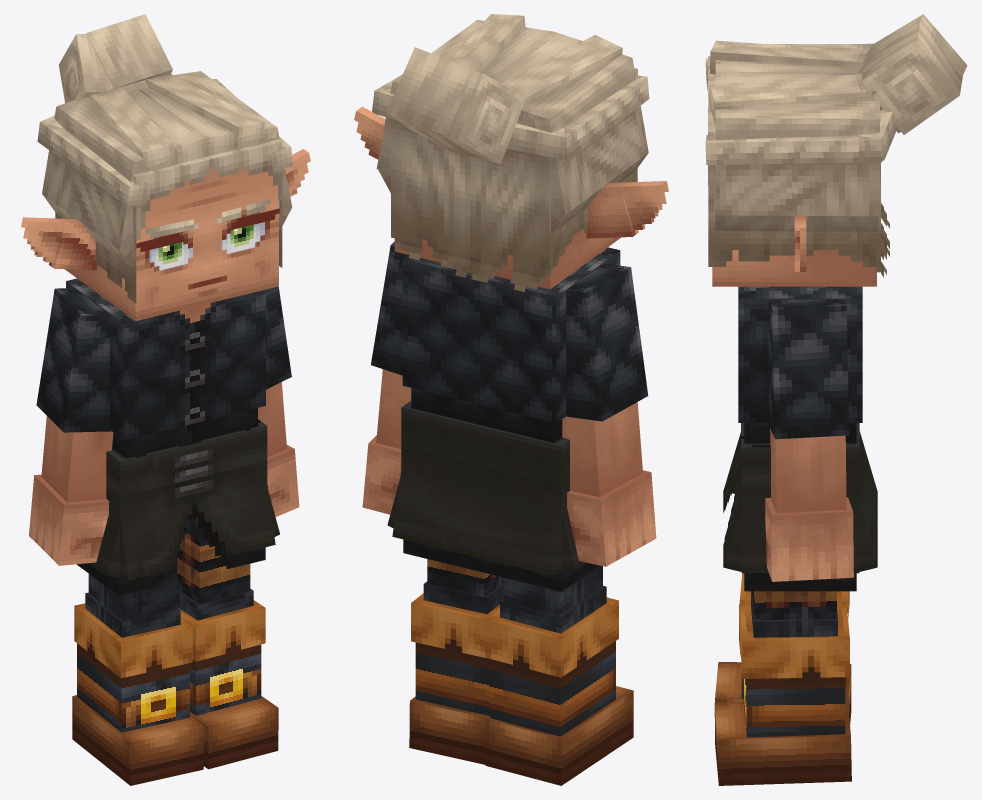
3 renders of one model, left to right at view 1: azimuth 30°, elevation 25°; view 2: azimuth 150°, elevation 25°; view 3: azimuth 270°, elevation 25°, orthographic. The views are drawn at different scales.
Visible parts, largest first — view 1: ChestPart.mesh, Face.mesh, L-Boot3.mesh (×2), BellyCostume2.mesh, R-ArmCostume.mesh, Front_Cloth_1.mesh, R-Boot.mesh, TopBraid.mesh (×2), SIde_R--C1.mesh, HairBase.mesh, R-Hand.mesh, R-Boot2.mesh (+25 smaller); view 2: ChestPart.mesh, HairBase.mesh, L-Boot3.mesh (×2), Back_Cloth_1.mesh, BellyCostume2.mesh, R-ArmCostume.mesh, R-Boot.mesh, SIde_R--C1.mesh, R-Hand.mesh, R-Boot2.mesh, R-Forearm.mesh, TopBraid.mesh (×2) (+25 smaller); view 3: SIde_L--C1.mesh, L-ArmCostume.mesh, L-Boot.mesh, ChestPart.mesh, TopBraid.mesh (×2), Bun2--C1.mesh, L-Hand.mesh, L-Boot3.mesh, L-Forearm.mesh, HairBase.mesh, L-Boot2.mesh, SideBraid--C1.mesh (+18 smaller).
Boxes of the visible parts, <box> form: ChestPart.mesh: <box>66,278,265,440</box>; Face.mesh: <box>135,166,278,320</box>; L-Boot3.mesh (×2): <box>77,641,261,732</box>; BellyCostume2.mesh: <box>106,419,267,521</box>; R-ArmCostume.mesh: <box>36,288,111,432</box>; Front_Cloth_1.mesh: <box>120,482,275,580</box>; R-Boot.mesh: <box>72,695,203,785</box>; TopBraid.mesh (×2): <box>89,74,264,171</box>; SIde_R--C1.mesh: <box>42,107,135,249</box>; HairBase.mesh: <box>55,139,282,303</box>; R-Hand.mesh: <box>29,474,108,565</box>; R-Boot2.mesh: <box>74,603,192,678</box>; ChestPart.mesh: <box>402,247,620,423</box>; HairBase.mesh: <box>391,68,637,279</box>; L-Boot3.mesh (×2): <box>415,639,615,736</box>; Back_Cloth_1.mesh: <box>392,469,560,575</box>; BellyCostume2.mesh: <box>401,401,569,511</box>; R-ArmCostume.mesh: <box>566,263,648,421</box>; R-Boot.mesh: <box>485,686,633,785</box>; SIde_R--C1.mesh: <box>534,58,648,214</box>; R-Hand.mesh: <box>567,470,656,566</box>; R-Boot2.mesh: <box>490,597,618,677</box>; R-Forearm.mesh: <box>562,402,642,497</box>; TopBraid.mesh (×2): <box>450,14,622,102</box>; SIde_L--C1.mesh: <box>715,115,880,216</box>; L-ArmCostume.mesh: <box>768,299,849,439</box>; L-Boot.mesh: <box>714,698,851,785</box>; ChestPart.mesh: <box>738,286,862,422</box>; TopBraid.mesh (×2): <box>709,40,882,122</box>; Bun2--C1.mesh: <box>861,19,963,134</box>; L-Hand.mesh: <box>765,497,853,581</box>; L-Boot3.mesh: <box>743,666,845,737</box>; L-Forearm.mesh: <box>770,428,846,513</box>; HairBase.mesh: <box>708,56,880,272</box>; L-Boot2.mesh: <box>739,602,849,678</box>; SideBraid--C1.mesh: <box>705,135,882,164</box>.
Size of the model in its own units: 3.96 by 8.49 by 2.79.
2 materials, 2 textured.
